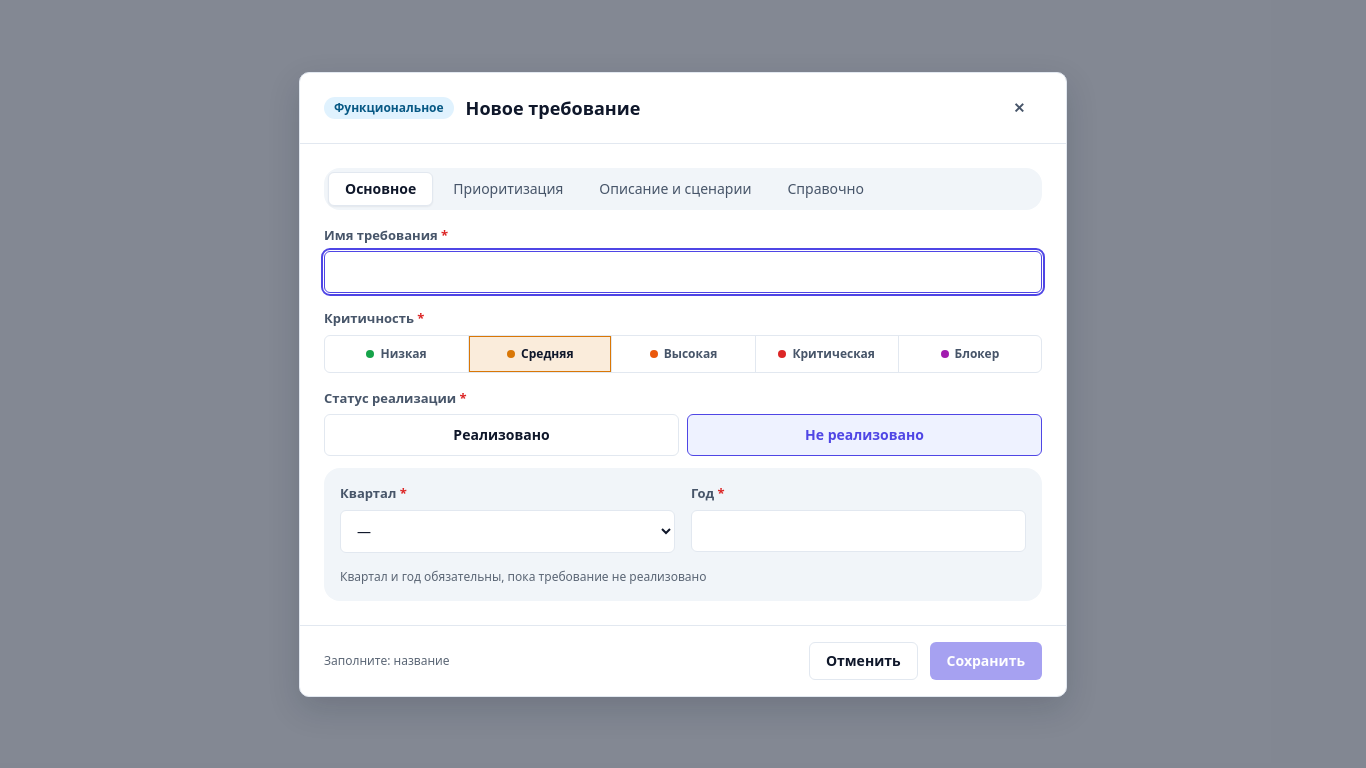
RequirementModal — AI generation (T-803) › T4: «Дополнить» appends the preview to the description on a new line
In the field with test id "req-name": (683, 272) [324, 251, 1042, 293], type "Валидация имени"
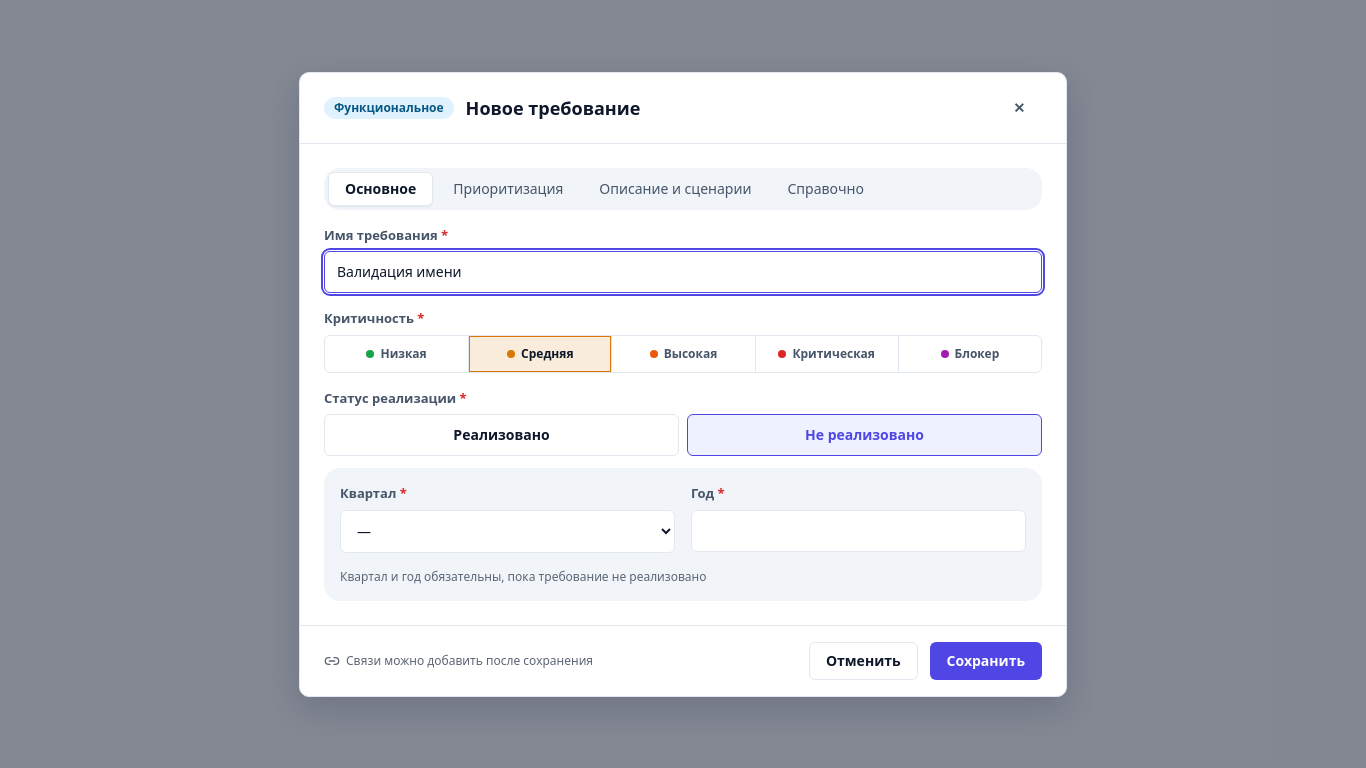
Click the tab with test id "req-tab-desc": click(675, 188) [583, 172, 768, 206]
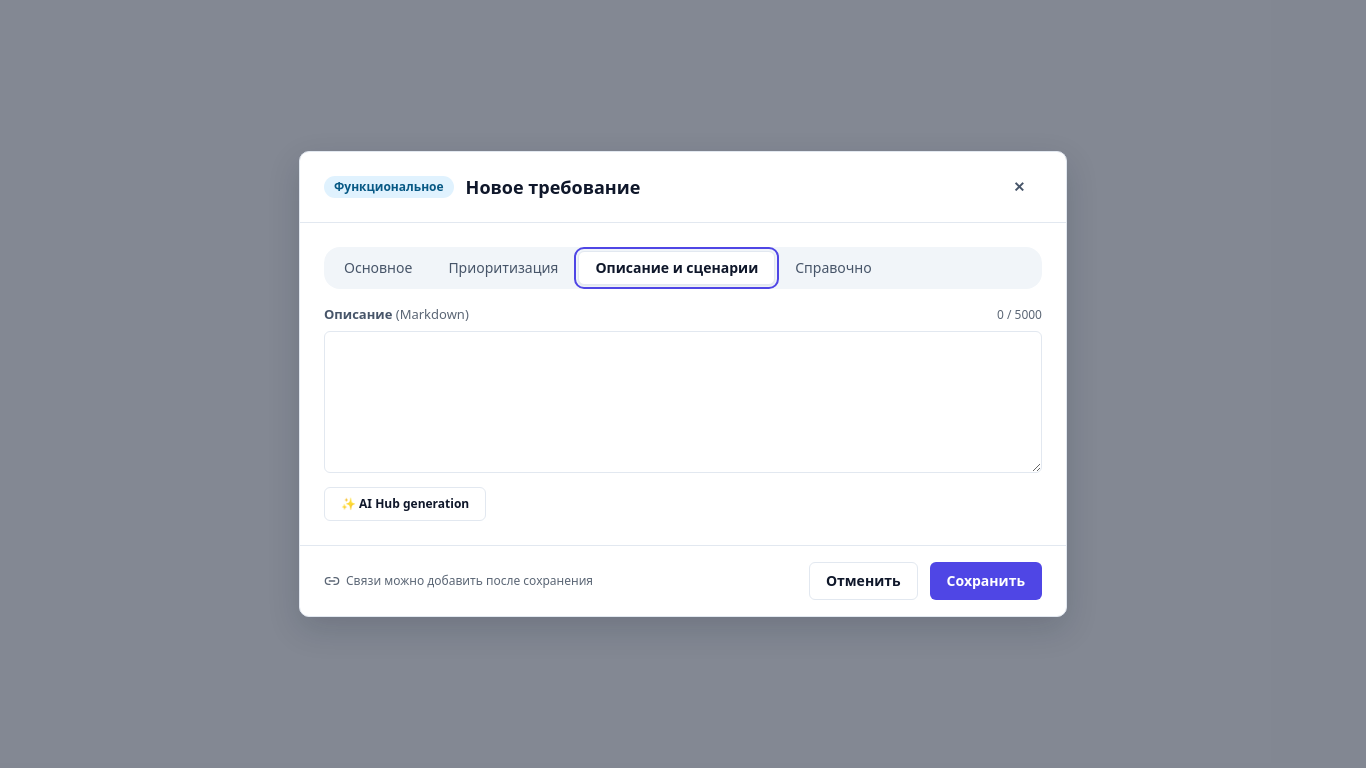
In the text box with test id "req-description": (683, 402) [324, 331, 1042, 473], type "Исходное описание."
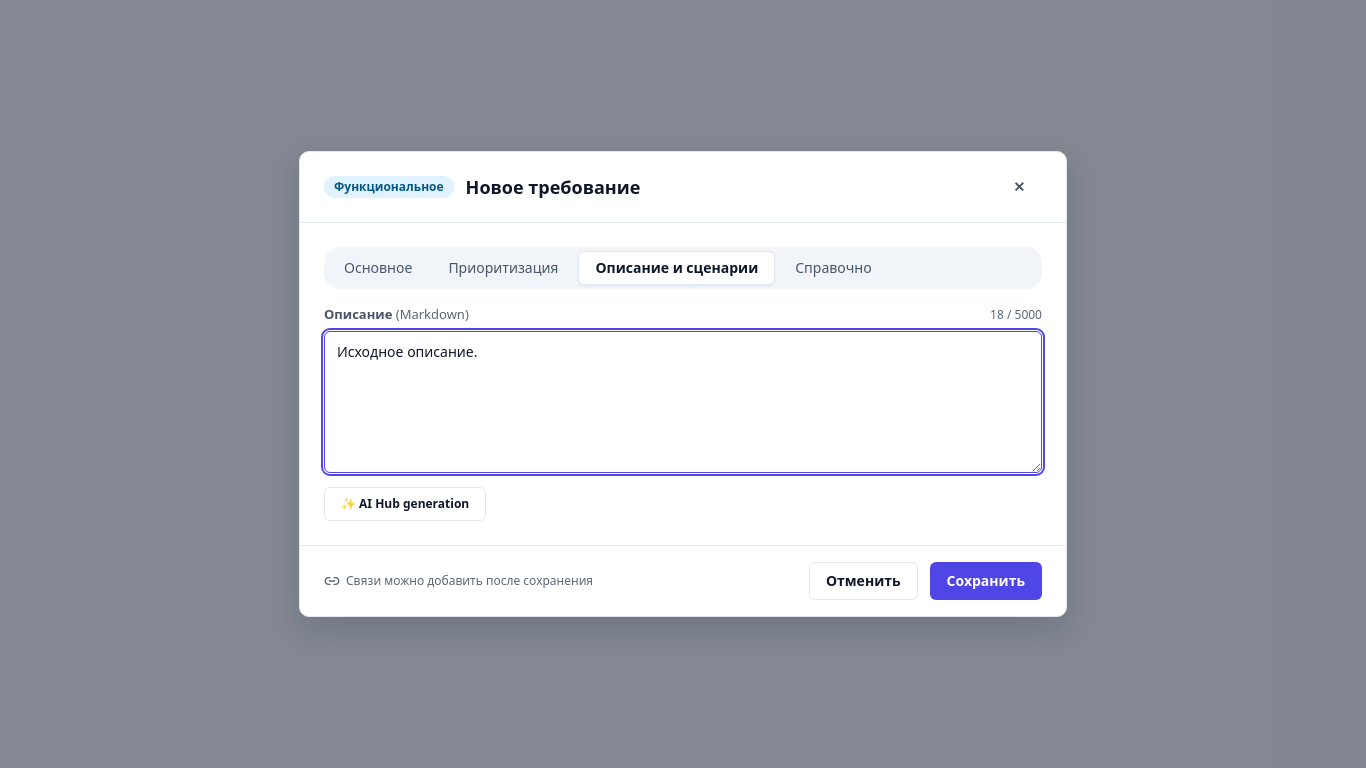
Click the button with test id "ai-gen-open": click(405, 504) [324, 487, 486, 521]
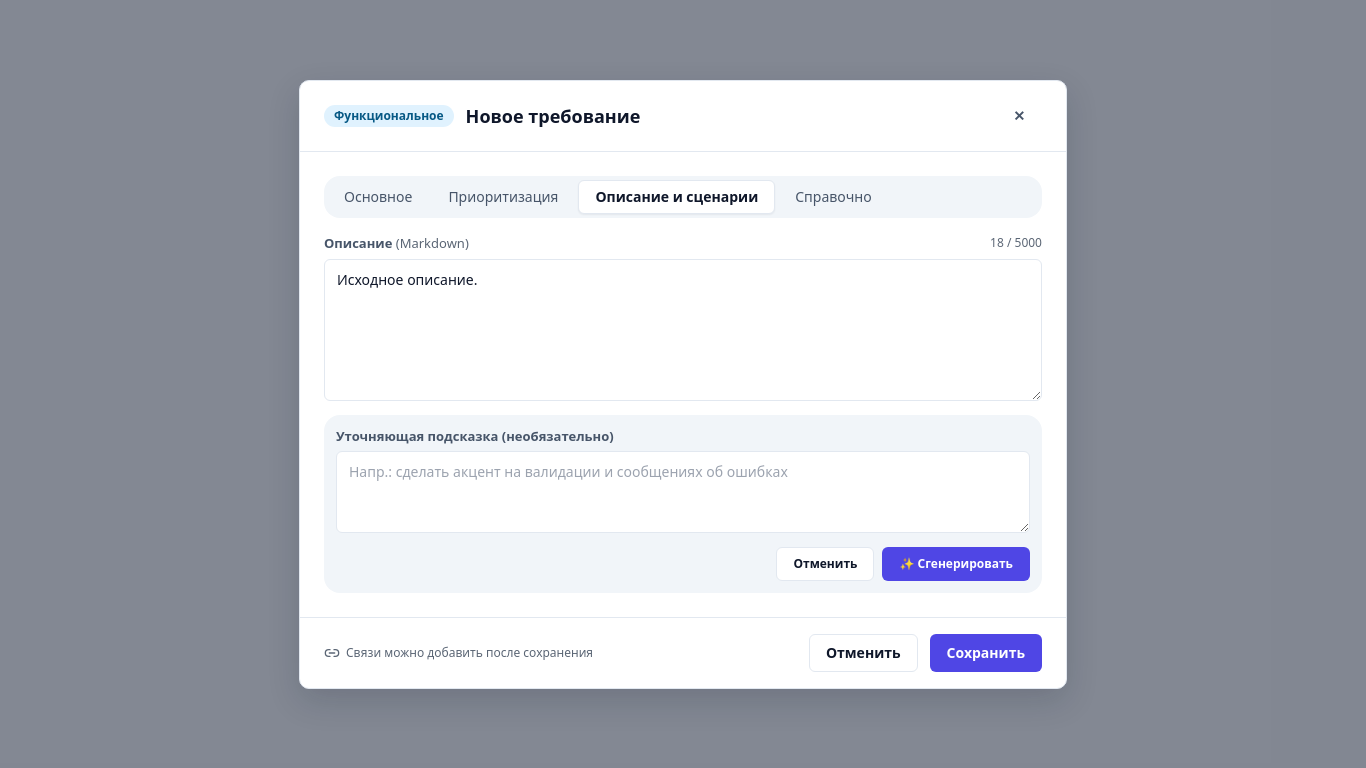
In the text box with test id "ai-gen-hint": (683, 492) [336, 450, 1030, 532], type "акцент на валидации"
Click the button with test id "ai-gen-submit": click(956, 564) [882, 546, 1030, 580]
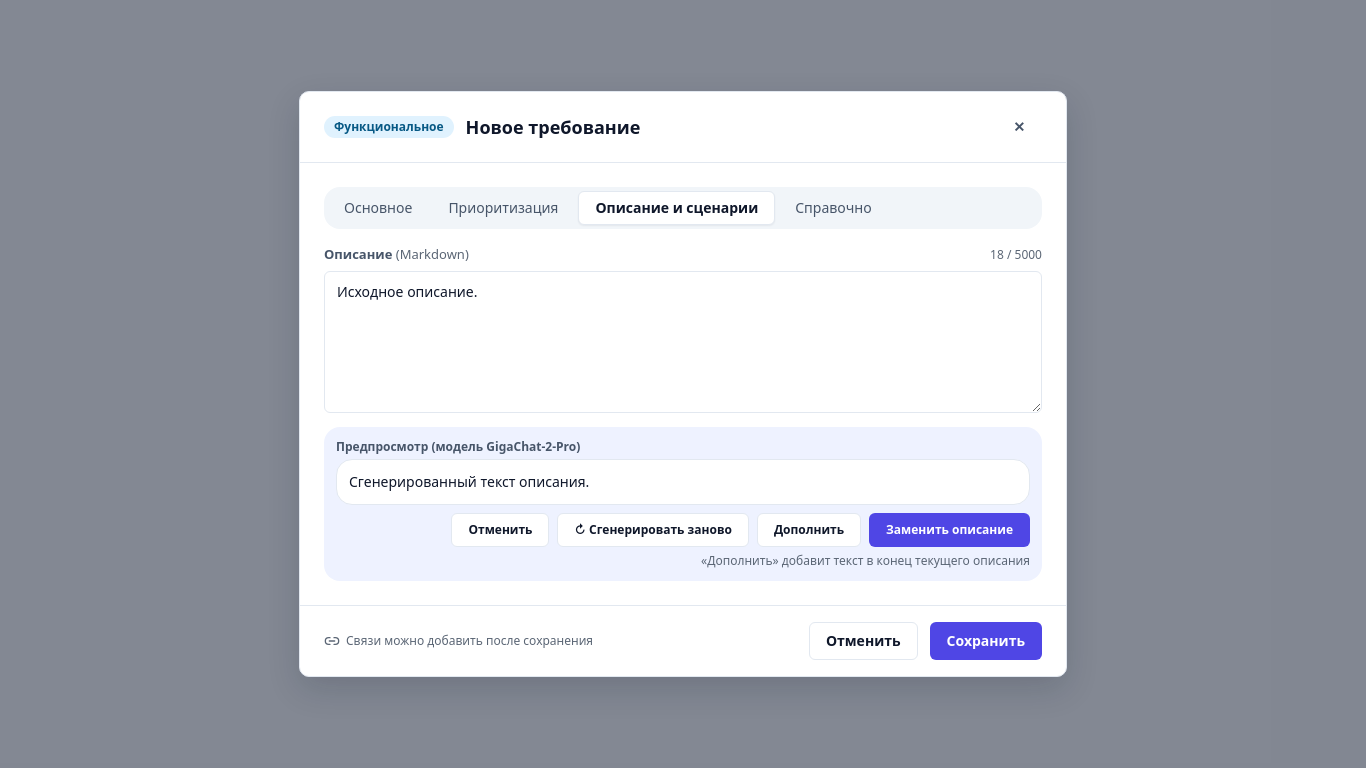
Expected: the text with test id "ai-gen-preview" reads "Сгенерированный текст описания.", [349, 472, 589, 491]
Click the button with test id "ai-gen-append": click(809, 530) [757, 513, 861, 547]
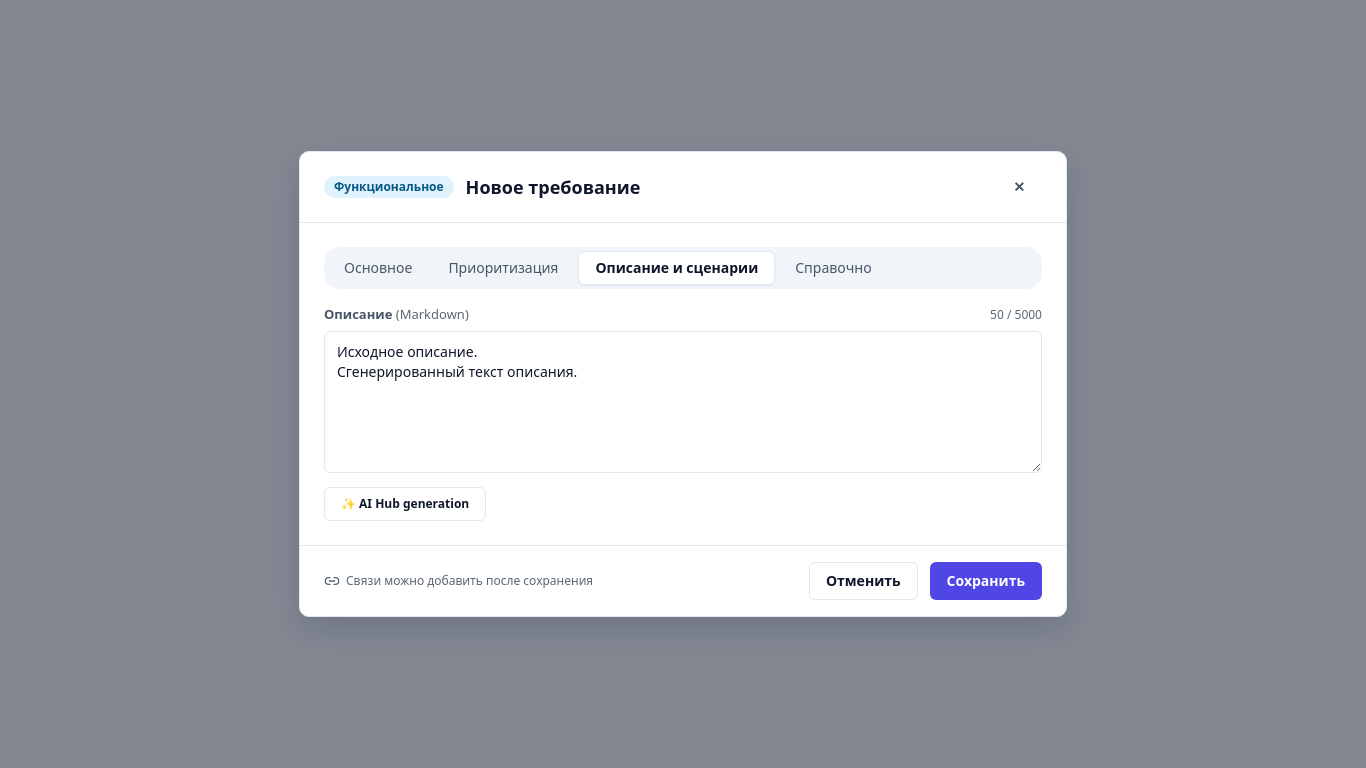
Expected: the text with test id "ai-gen-preview" is gone
